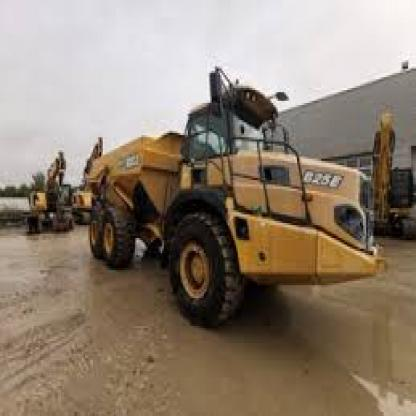dump_truck: (73, 71, 398, 345)
